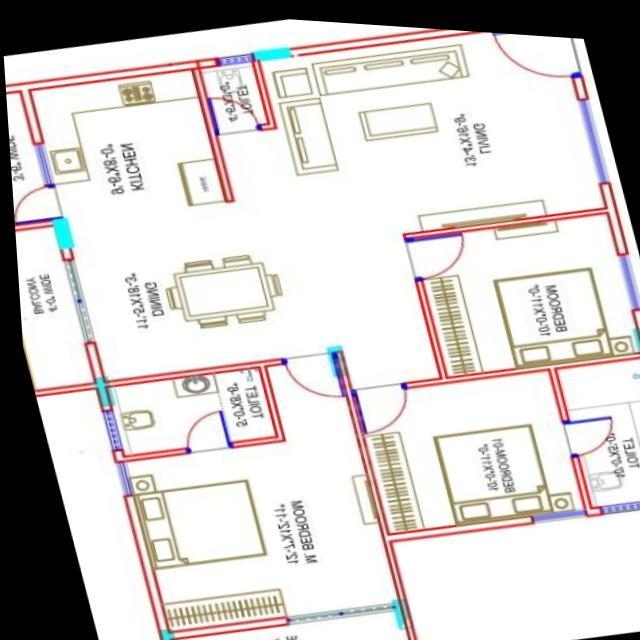Balcony-Sitout: (12, 225, 102, 400), (153, 600, 407, 640)
Bedroom: (346, 358, 582, 536), (404, 207, 638, 375)
Bedroom with Toilet: (114, 425, 389, 630)
Dining: (153, 246, 287, 330)
Kitchen: (26, 61, 230, 224)
Living: (256, 24, 609, 243)
Toilet: (93, 359, 280, 461), (542, 342, 640, 511), (192, 52, 269, 136)
Utility: (5, 88, 61, 229)
